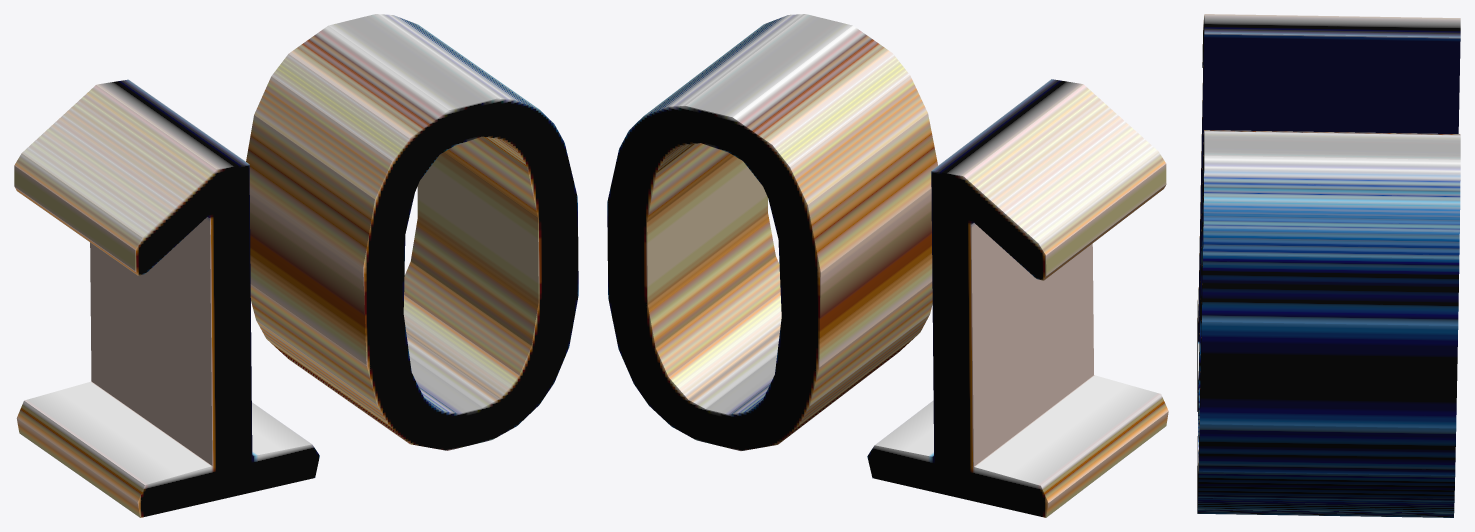
Rendered from diez.glb.
3 views of the same model, side by side, from view 1: azimuth 30°, elevation 25°; view 2: azimuth 150°, elevation 25°; view 3: azimuth 270°, elevation 25° (orthographic). The views are drawn at different scales.
Parts seen in each view (by area): view 1: Mesh_0, Mesh_1; view 2: Mesh_0, Mesh_1; view 3: Mesh_0, Mesh_1.
Part boxes in pixels (left/top/right/bottom): Mesh_0: left=246, top=14, right=578, bottom=450; Mesh_1: left=14, top=79, right=319, bottom=517; Mesh_0: left=607, top=14, right=937, bottom=450; Mesh_1: left=867, top=79, right=1168, bottom=517; Mesh_0: left=1197, top=130, right=1460, bottom=517; Mesh_1: left=1197, top=14, right=1460, bottom=411.
Size of the model in its own units: 3.09 by 2.28 by 1.51.
Materials: 1 (1 with a texture image).
